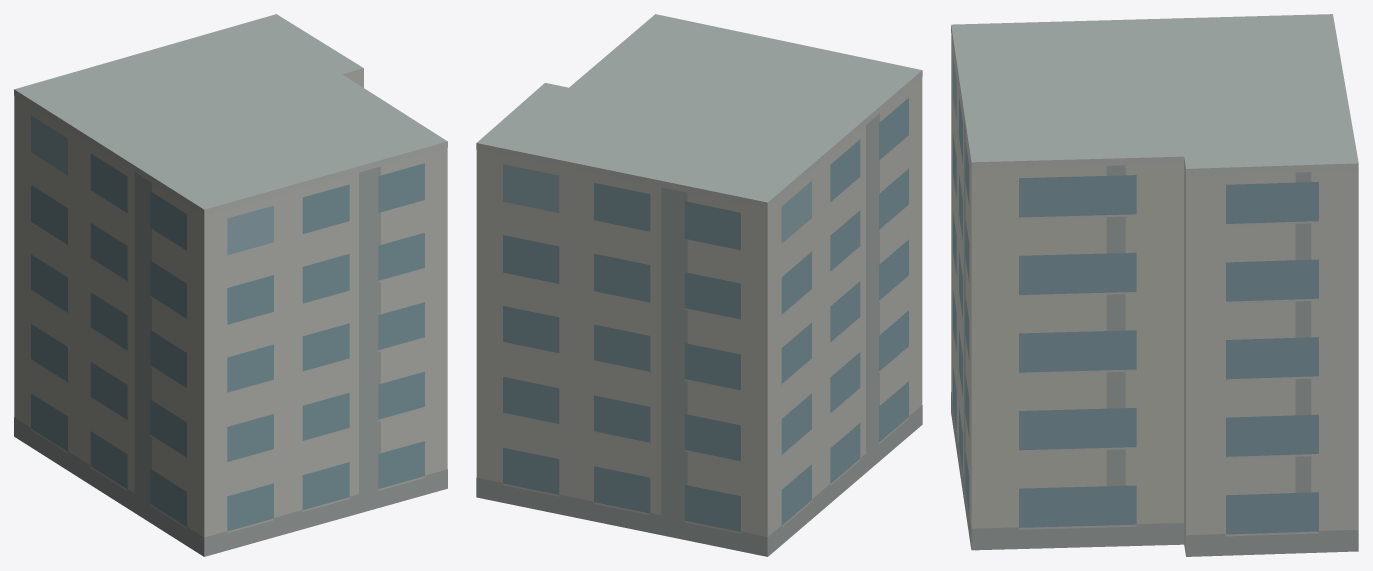
The model's file is survey-upis-33007322.glb.
3 views of the same model, side by side, from view 1: azimuth 30°, elevation 25°; view 2: azimuth 150°, elevation 25°; view 3: azimuth 270°, elevation 25° (orthographic). The views are drawn at different scales.
Visible parts, largest first — view 1: survey-upis-33007322.tmp; view 2: survey-upis-33007322.tmp; view 3: survey-upis-33007322.tmp.
Part boxes in pixels (x1=…): survey-upis-33007322.tmp: x1=14, y1=14, x2=447, y2=556; survey-upis-33007322.tmp: x1=476, y1=14, x2=922, y2=556; survey-upis-33007322.tmp: x1=951, y1=14, x2=1358, y2=556.
Size of the model in its own units: 11.35 by 13.25 by 12.63.
